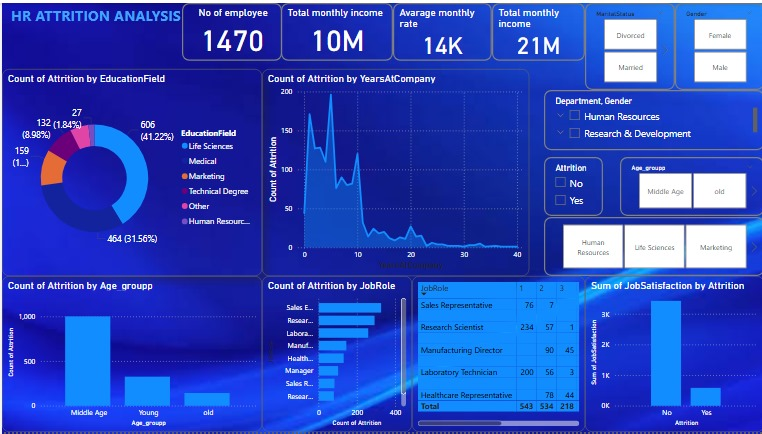

Layout of this report page (visuals, bound fields, positions):
{"tool":"powerbi","page":{"name":"Page 1","canvas":[1280,720],"ordinal":0},"visuals":[{"type":"textbox","box":[10.1,0,918.8,53.8],"z":0},{"type":"slicer","fields":{"Values":["HR RAW DATAs.Department","HR RAW DATAs.Gender"]},"box":[910.4,146.1,369.6,100.8],"z":1000},{"type":"slicer","fields":{"Values":["HR RAW DATAs.Gender"]},"box":[1130.5,0,149.5,146.1],"z":2000},{"type":"slicer","fields":{"Values":["HR RAW DATAs.MaritalStatus"]},"box":[979.3,0,151.2,146.1],"z":3000},{"type":"slicer","fields":{"Values":["HR RAW DATAs.EducationField"]},"box":[910.4,359.5,369.6,99.1],"z":4000},{"type":"slicer","fields":{"Values":["HR RAW DATAs.Age_groupp"]},"box":[1038.1,258.7,241.9,99.1],"z":5000},{"type":"card","title":"No of employee","fields":{"Values":["Count(HR RAW DATAs.EmployeeNumber)"]},"box":[302.4,0,168,97.4],"z":6000},{"type":"slicer","fields":{"Values":["HR RAW DATAs.Attrition"]},"box":[910.4,258.7,99.1,99.1],"z":7000},{"type":"card","title":"Total monthly income","fields":{"Values":["Sum(HR RAW DATAs.MonthlyRate)"]},"box":[823.1,0,156.2,97.4],"z":8000},{"type":"card","title":"Total monthly income","fields":{"Values":["Sum(HR RAW DATAs.MonthlyIncome)"]},"box":[468.7,0,188.1,97.4],"z":9000},{"type":"donutChart","fields":{"Category":["HR RAW DATAs.EducationField"],"Y":["CountNonNull(HR RAW DATAs.Attrition)"]},"box":[0,110.9,436.7,347.7],"z":10000},{"type":"areaChart","fields":{"Category":["HR RAW DATAs.YearsAtCompany"],"Y":["CountNonNull(HR RAW DATAs.Attrition)"]},"box":[436.7,110.9,448.5,347.7],"z":11000},{"type":"columnChart","fields":{"Y":["CountNonNull(HR RAW DATAs.Attrition)"],"Category":["HR RAW DATAs.Age_groupp"]},"box":[0,458.6,436.7,262],"z":12000},{"type":"barChart","fields":{"Y":["CountNonNull(HR RAW DATAs.Attrition)"],"Category":["HR RAW DATAs.JobRole"]},"box":[436.7,458.6,252,262],"z":13000},{"type":"columnChart","fields":{"Category":["HR RAW DATAs.Attrition"],"Y":["Sum(HR RAW DATAs.JobSatisfaction)"]},"box":[979.3,458.6,300.7,262],"z":14000},{"type":"pivotTable","fields":{"Rows":["HR RAW DATAs.JobRole"],"Values":["CountNonNull(HR RAW DATAs.JobLevel)"],"Columns":["HR RAW DATAs.JobLevel"]},"box":[688.7,458.6,290.6,262],"z":15000},{"type":"card","title":"Avarage monthly rate","fields":{"Values":["Avg(HR RAW DATAs.MonthlyRate)"]},"box":[656.8,0,166.3,97.4],"z":16000}]}

Visuals, with their boxes in screenshot pixels (x1, y1, x2, y2), scaled from the page's 1280x720 canvas onto the 762x434 screenshot:
textbox: box(6, 0, 553, 32)
slicer - HR RAW DATAs.Department x HR RAW DATAs.Gender: box(542, 88, 761, 149)
slicer - HR RAW DATAs.Gender: box(673, 0, 761, 88)
slicer - HR RAW DATAs.MaritalStatus: box(583, 0, 673, 88)
slicer - HR RAW DATAs.EducationField: box(542, 217, 761, 276)
slicer - HR RAW DATAs.Age_groupp: box(618, 156, 761, 216)
"No of employee" card: box(180, 0, 280, 59)
slicer - HR RAW DATAs.Attrition: box(542, 156, 601, 216)
"Total monthly income" card: box(490, 0, 583, 59)
"Total monthly income" card: box(279, 0, 391, 59)
donutChart - HR RAW DATAs.EducationField x CountNonNull(HR RAW DATAs.Attrition): box(0, 67, 260, 276)
areaChart - HR RAW DATAs.YearsAtCompany x CountNonNull(HR RAW DATAs.Attrition): box(260, 67, 527, 276)
columnChart - CountNonNull(HR RAW DATAs.Attrition) x HR RAW DATAs.Age_groupp: box(0, 276, 260, 433)
barChart - CountNonNull(HR RAW DATAs.Attrition) x HR RAW DATAs.JobRole: box(260, 276, 410, 433)
columnChart - HR RAW DATAs.Attrition x Sum(HR RAW DATAs.JobSatisfaction): box(583, 276, 761, 433)
pivotTable - HR RAW DATAs.JobRole x CountNonNull(HR RAW DATAs.JobLevel): box(410, 276, 583, 433)
"Avarage monthly rate" card: box(391, 0, 490, 59)
